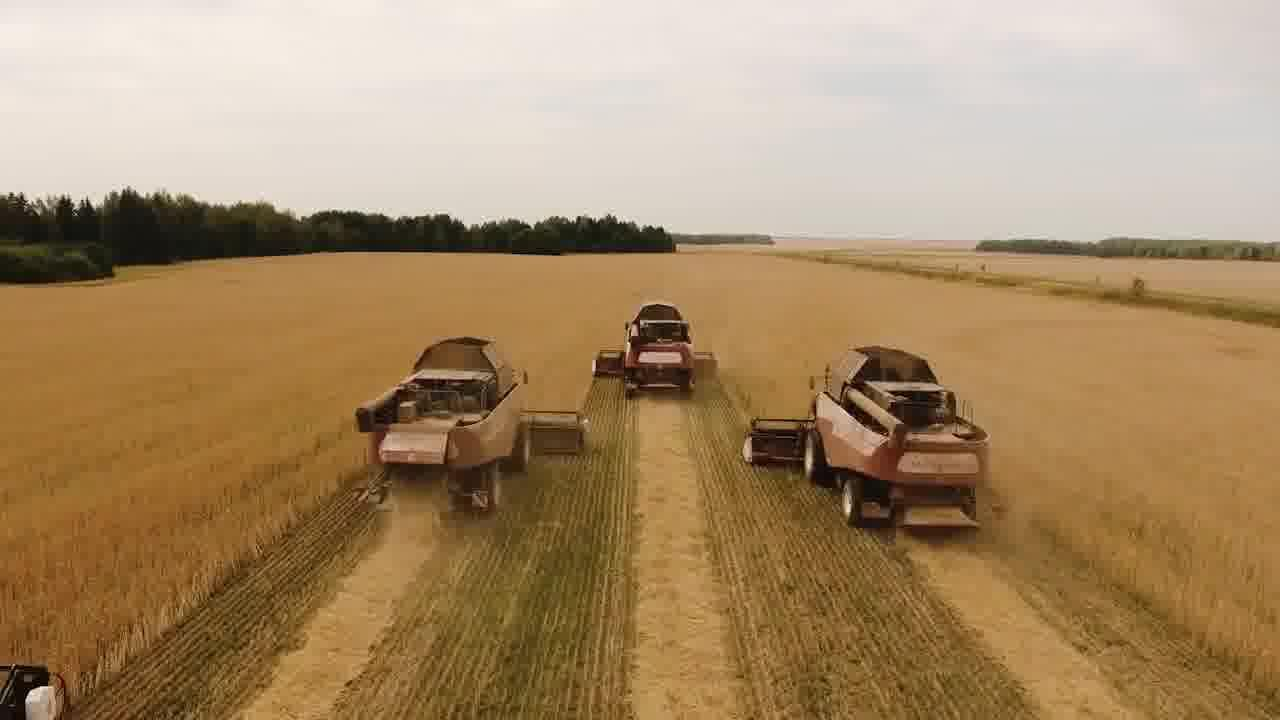combine harvester: (740, 340, 991, 536), (349, 331, 596, 525), (588, 294, 720, 403)
